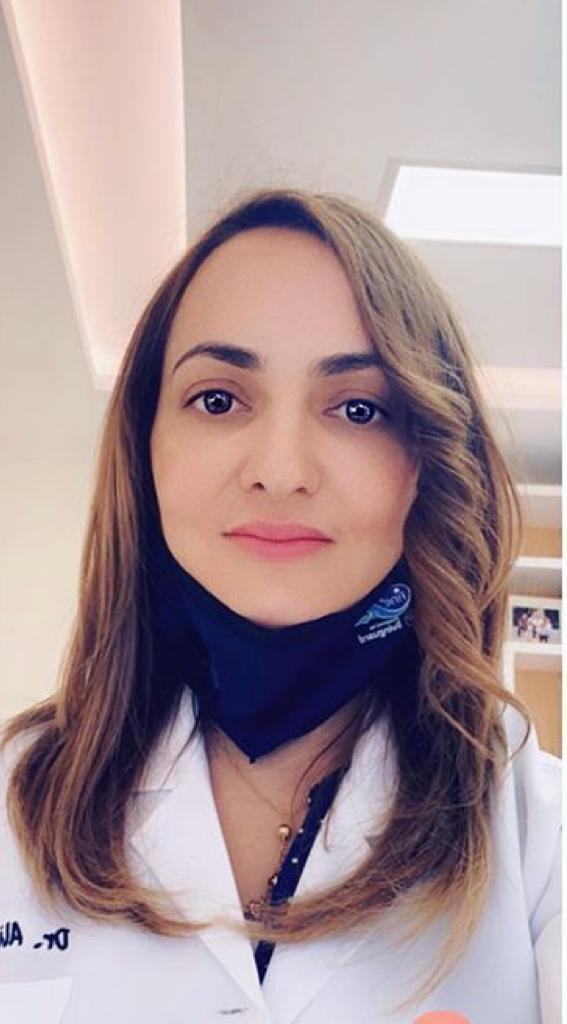mouth: (218, 516, 337, 562)
nose: (240, 459, 320, 499)
